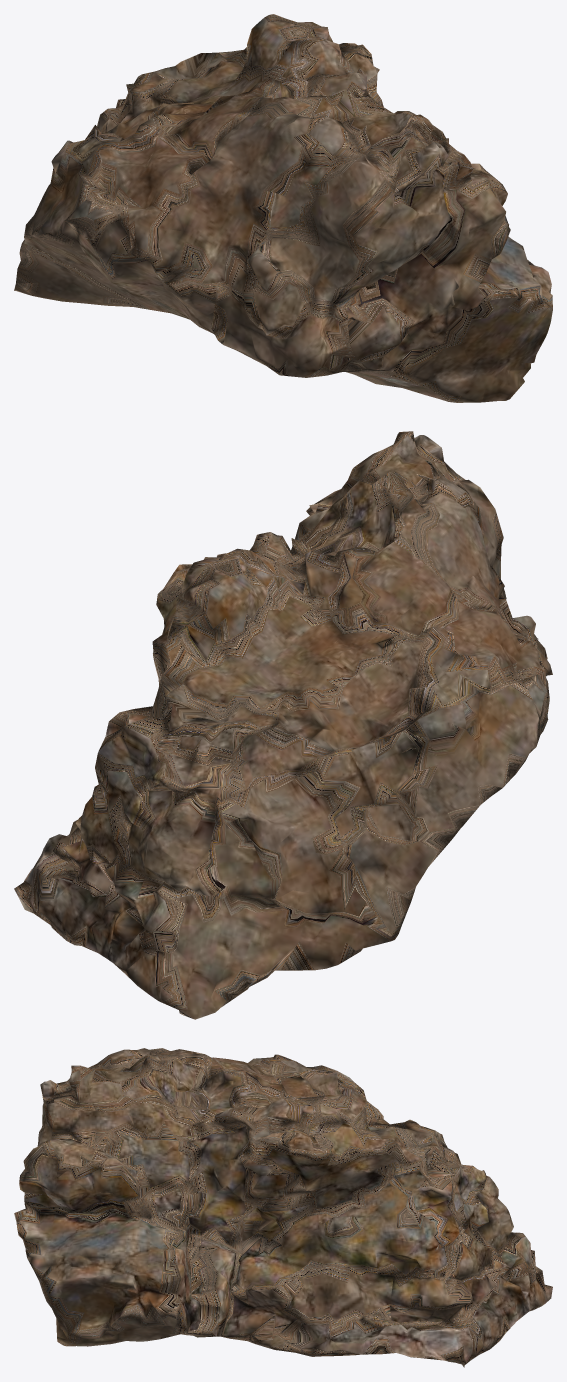
File: rock-boulder-01.d2498819.glb
3 views of the same model, one above another, from view 1: azimuth 30°, elevation 25°; view 2: azimuth 150°, elevation 25°; view 3: azimuth 270°, elevation 25° (orthographic). The views are drawn at different scales.
Visible parts, largest first — view 1: model; view 2: model; view 3: model.
Part boxes in pixels (<box>): model: <box>14,14,552,402</box>; model: <box>14,431,552,1019</box>; model: <box>14,1048,552,1367</box>.
Bounding box in the file's own units: 1.27 × 1 × 1.82.
1 material, 1 textured.
